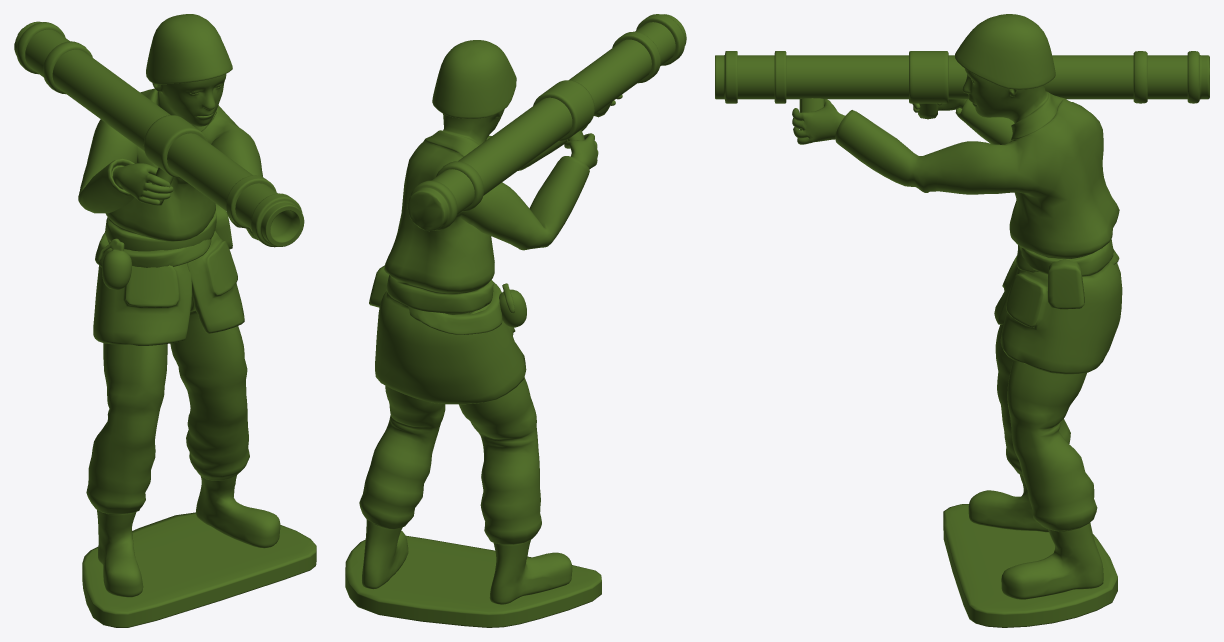
File: soldier.fbx
The picture shows the model from 3 angles, left to right: view 1: azimuth 30°, elevation 25°; view 2: azimuth 150°, elevation 25°; view 3: azimuth 270°, elevation 25°; orthographic projection. The views are drawn at different scales.
Visible parts, largest first — view 1: soldier; view 2: soldier; view 3: soldier.
Boxes of the visible parts, bbox=[...] form: soldier: bbox=[14, 14, 316, 627]; soldier: bbox=[345, 14, 686, 627]; soldier: bbox=[715, 14, 1209, 627].
Bounding box in the file's own units: 0.0719 × 0.1687 × 0.1367.
